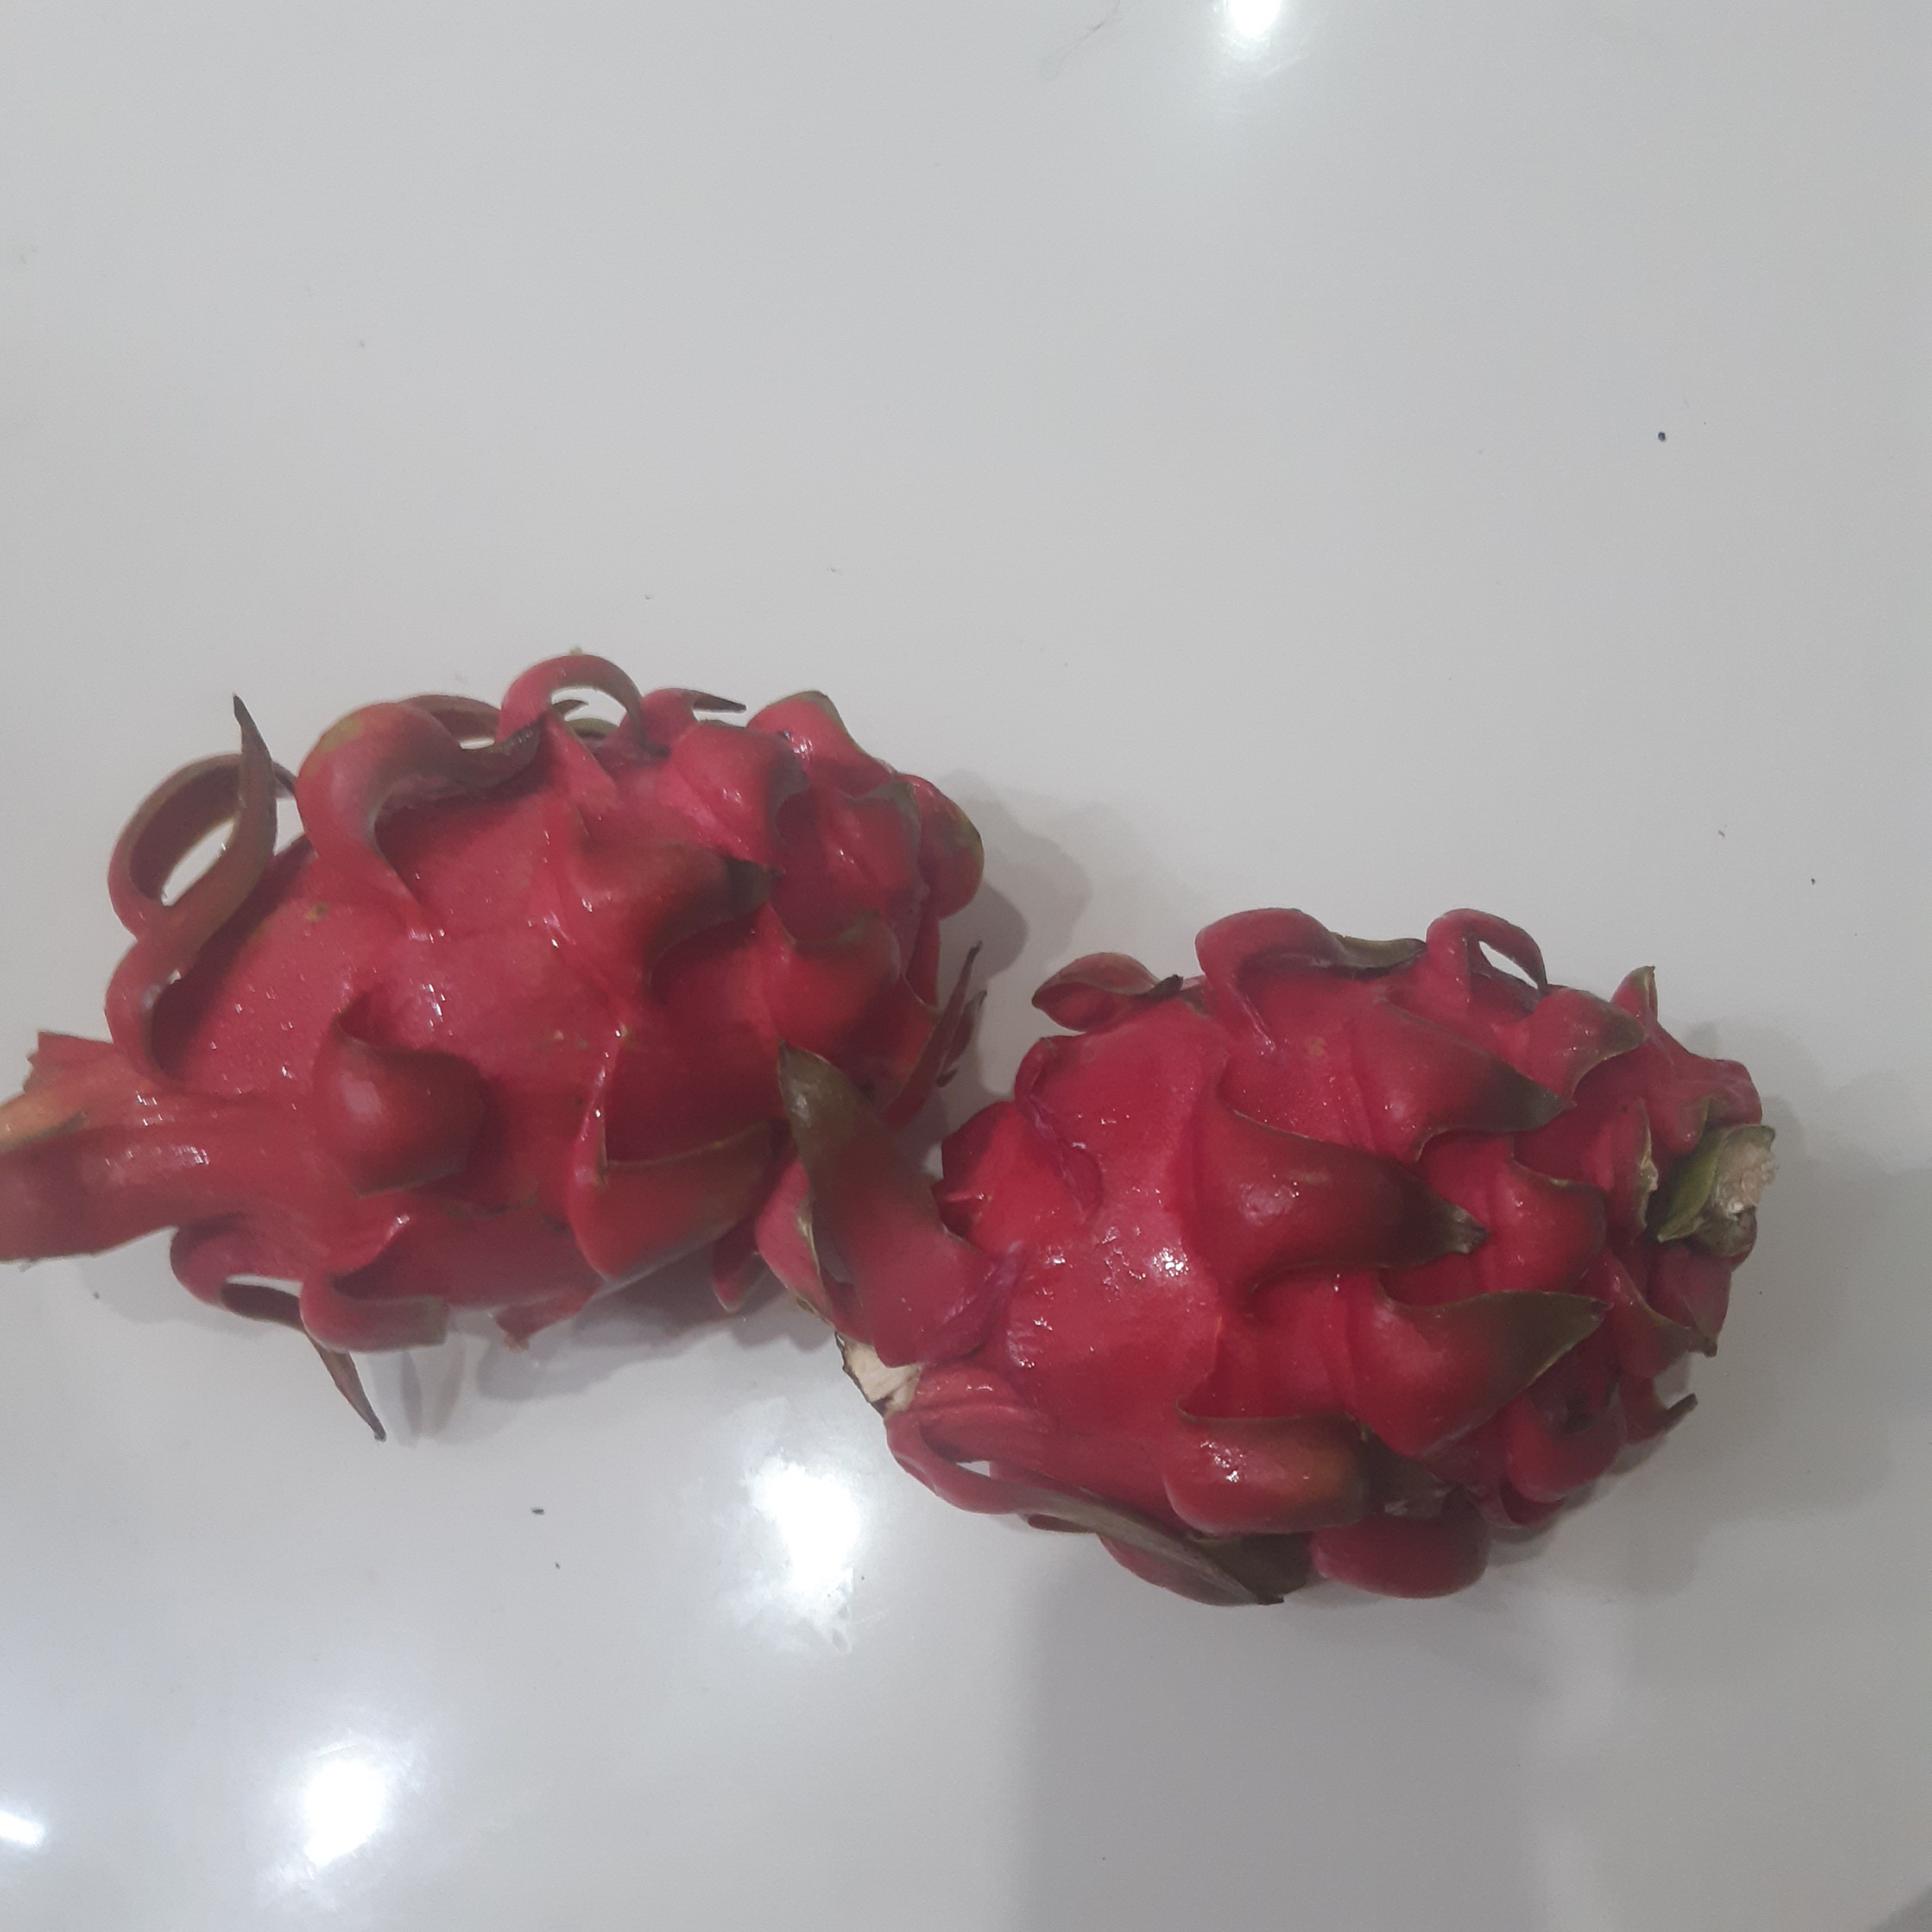Thanh long: (895, 953, 1771, 1595), (107, 691, 979, 1333)
